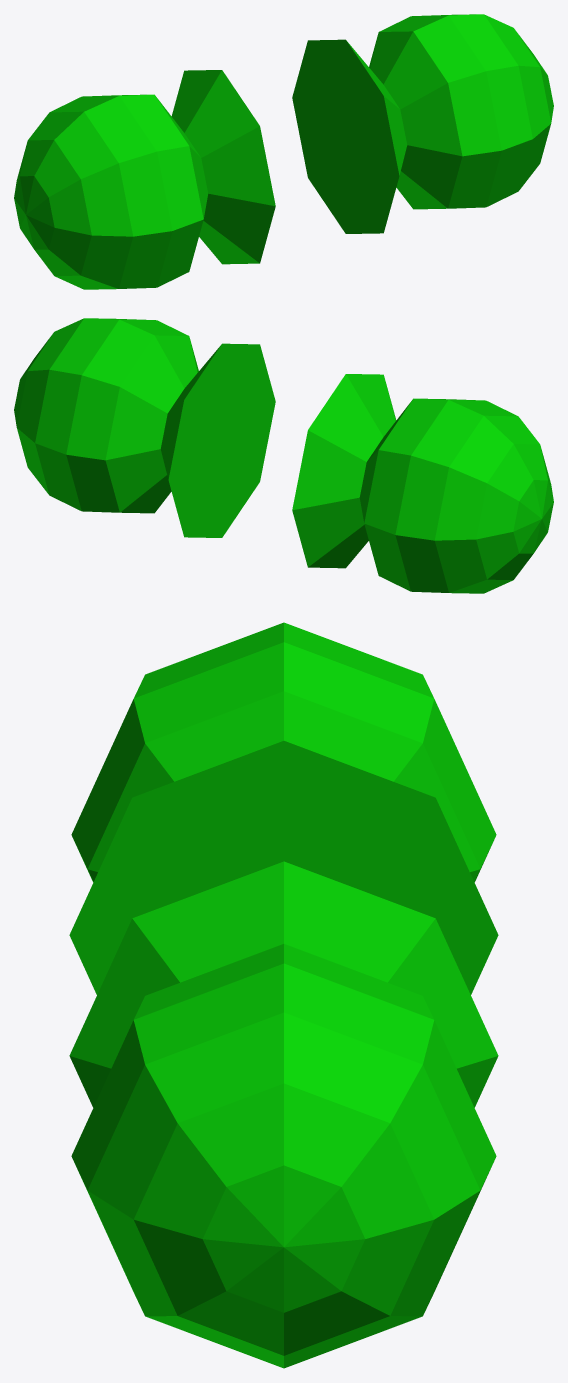
Rendered from door_knob.fbx.
3 renders of one model, top to bottom at view 1: azimuth 30°, elevation 25°; view 2: azimuth 150°, elevation 25°; view 3: azimuth 270°, elevation 25°, orthographic. The views are drawn at different scales.
Visible parts, largest first — view 1: knob; view 2: knob; view 3: knob.
Part boxes in pixels (x1,y1,x2,y2): knob: [14, 14, 553, 289]; knob: [14, 318, 553, 593]; knob: [69, 622, 498, 1368].
Size of the model in its own units: 15.02 by 5.41 by 5.41.
